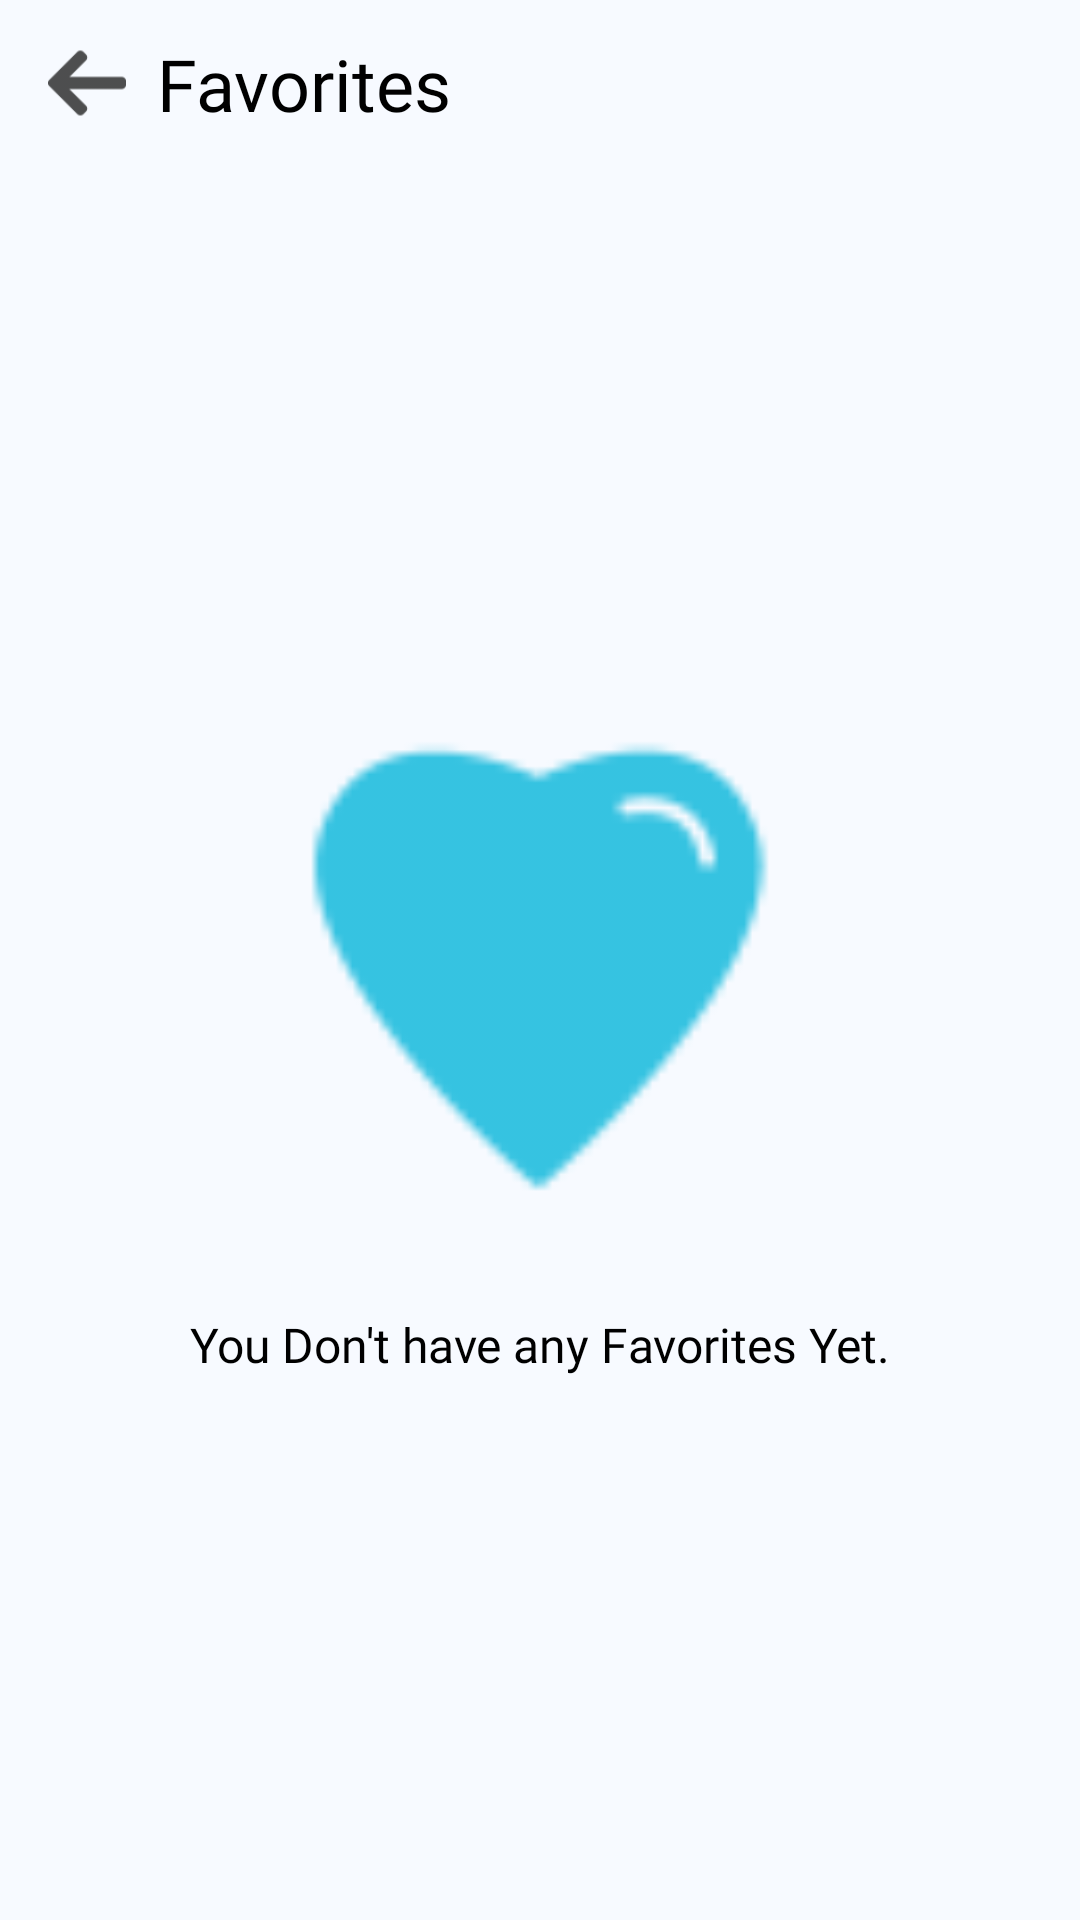

Icon click points for this 1080×1920 phone screenshot, format [x,y]:
back arrow: [87,83]
